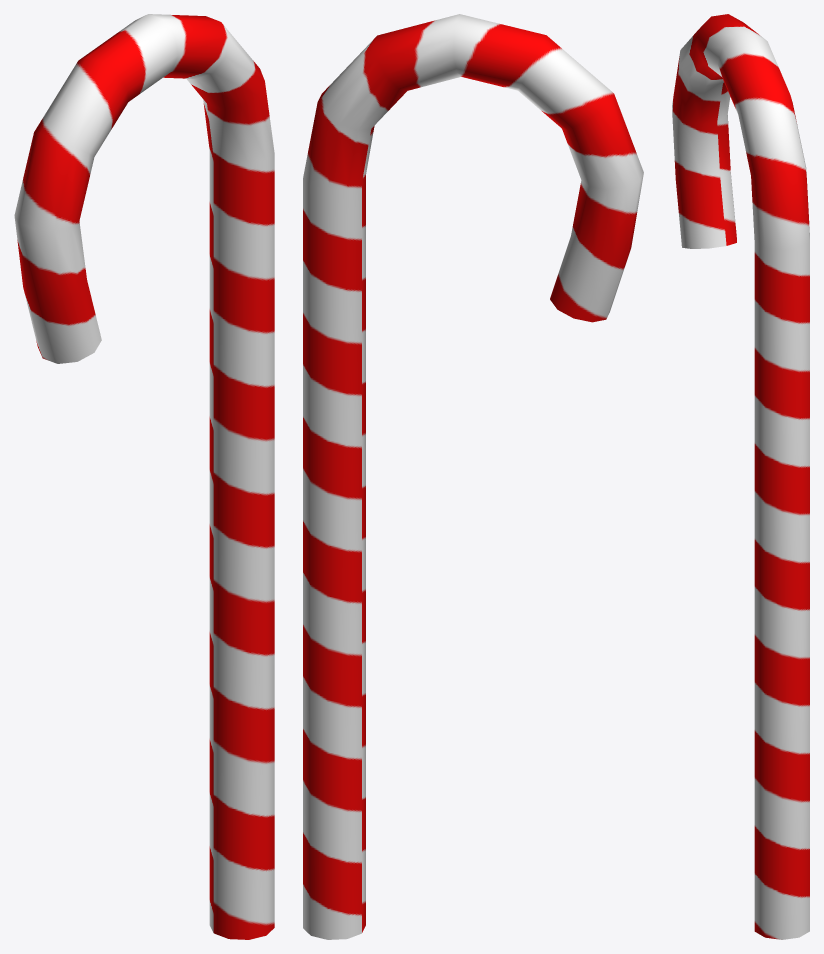
File: candycane red.fbx
3 views of the same model, side by side, from view 1: azimuth 30°, elevation 25°; view 2: azimuth 150°, elevation 25°; view 3: azimuth 270°, elevation 25° (orthographic). The views are drawn at different scales.
Parts seen in each view (by area): view 1: candycane_red; view 2: candycane_red; view 3: candycane_red.
Part boxes in pixels (x1,y1,x2,y2): candycane_red: (14, 14, 274, 939); candycane_red: (303, 14, 643, 939); candycane_red: (672, 14, 809, 939).
Size of the model in its own units: 4.96 by 15.13 by 2.23.
1 material, 1 textured.
